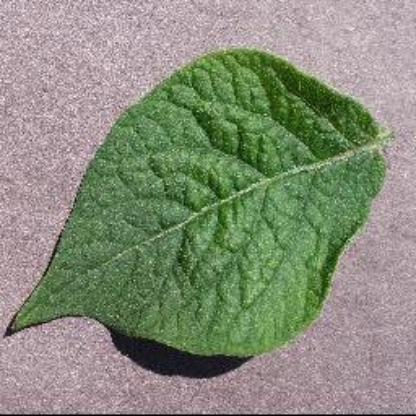Healthy-plant: (6, 46, 394, 362)
